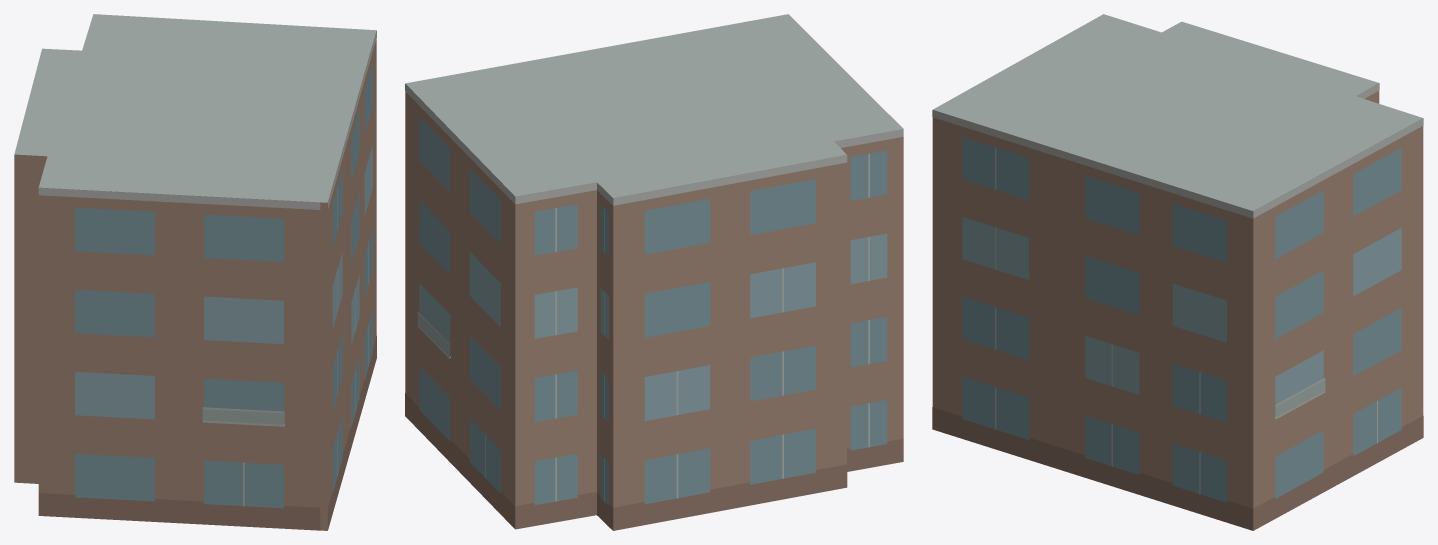
File: survey-upis-32528811.glb
3 views of the same model, side by side, from view 1: azimuth 30°, elevation 25°; view 2: azimuth 150°, elevation 25°; view 3: azimuth 270°, elevation 25° (orthographic). The views are drawn at different scales.
Visible parts, largest first — view 1: survey-upis-32528811.tmp; view 2: survey-upis-32528811.tmp; view 3: survey-upis-32528811.tmp.
Part boxes in pixels (x1=…): survey-upis-32528811.tmp: x1=14, y1=14, x2=376, y2=530; survey-upis-32528811.tmp: x1=405, y1=14, x2=903, y2=530; survey-upis-32528811.tmp: x1=932, y1=14, x2=1423, y2=530.
Size of the model in its own units: 13.9 by 10.5 by 14.62.
